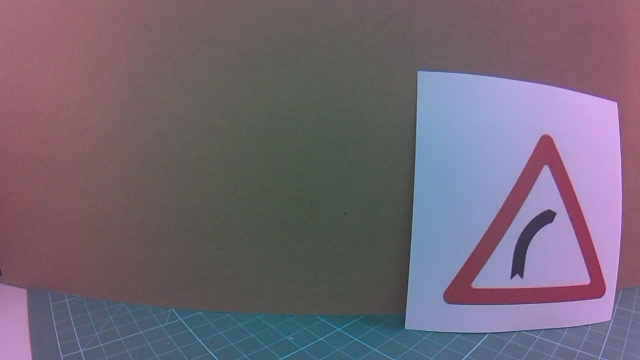right: (418, 141, 618, 317)
